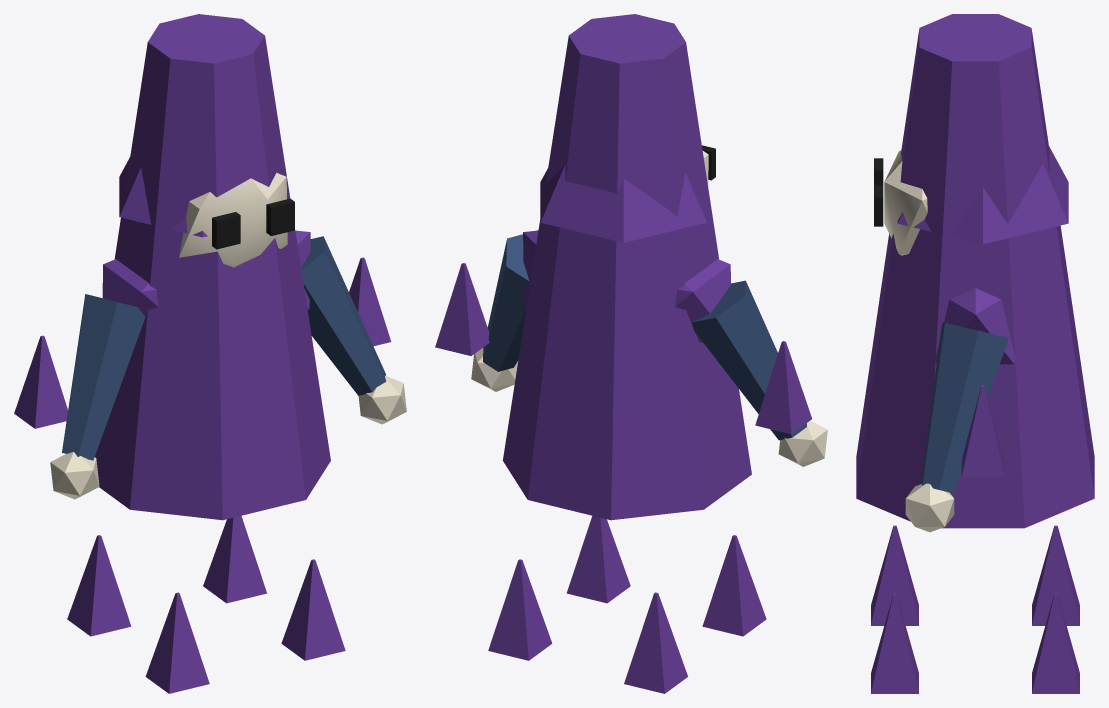
The model's file is wraith.glb.
The picture shows the model from 3 angles, left to right: view 1: azimuth 30°, elevation 25°; view 2: azimuth 150°, elevation 25°; view 3: azimuth 270°, elevation 25°; orthographic projection. The views are drawn at different scales.
Parts seen in each view (by area): view 1: wraith_lod0; view 2: wraith_lod0; view 3: wraith_lod0.
Boxes of the visible parts, x1=… form: wraith_lod0: x1=14, y1=14, x2=406, y2=693; wraith_lod0: x1=435, y1=14, x2=827, y2=693; wraith_lod0: x1=856, y1=14, x2=1094, y2=693.
Size of the model in its own units: 1.11 by 1.78 by 0.6282.
